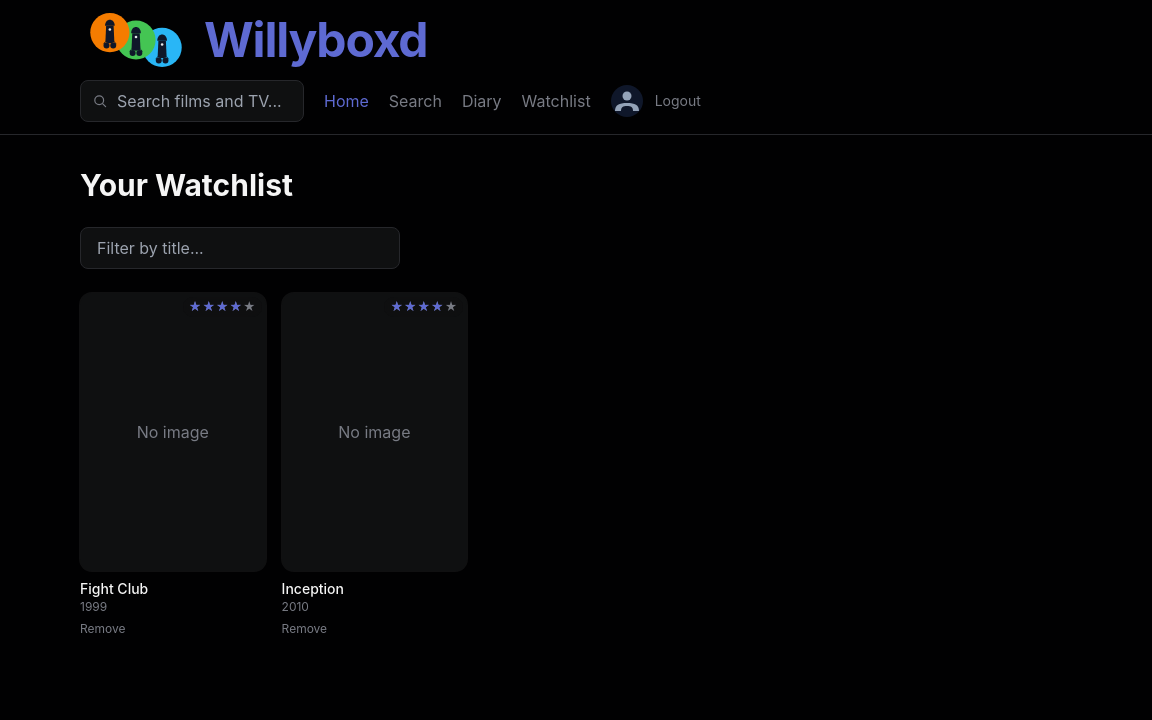
Test case: Watchlist › filters the grid by title
Expected: the heading "Fight Club" is shown, left=80, top=580, right=148, bottom=597
Type "inception" into the field named "Filter watchlist by title" at (240, 248), box left=80, top=227, right=400, bottom=269
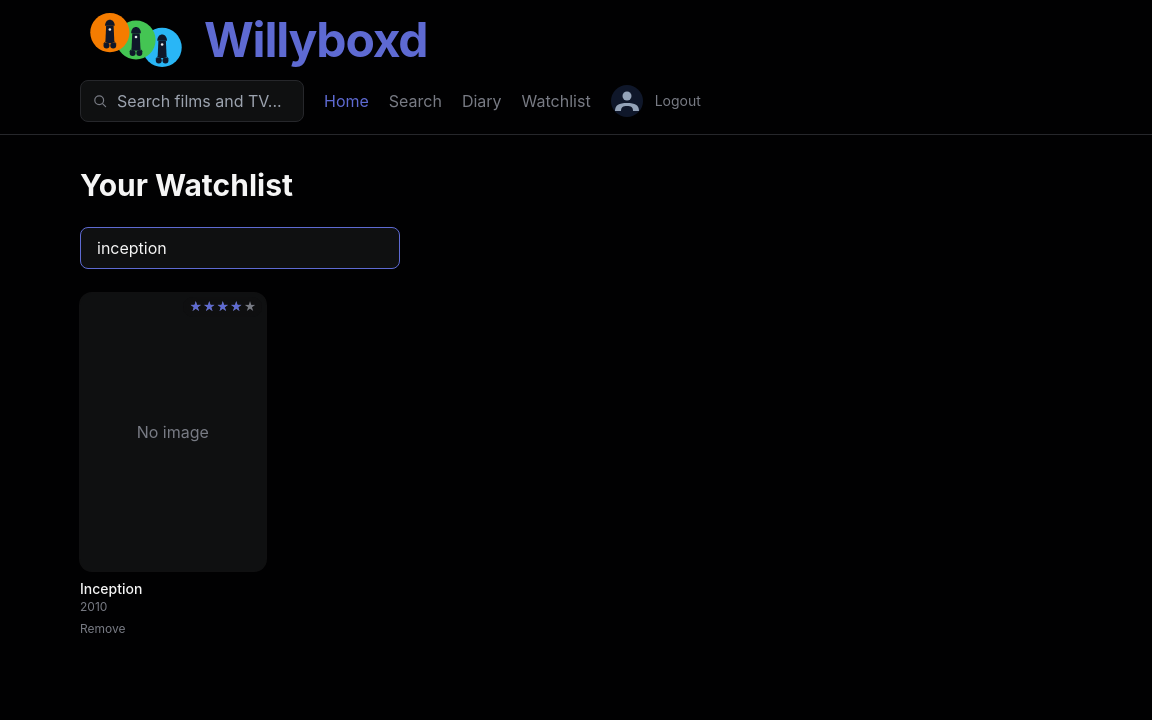
Expected: the heading "Inception" is shown, left=80, top=580, right=142, bottom=597
Result: the link "Fight Club" is gone
